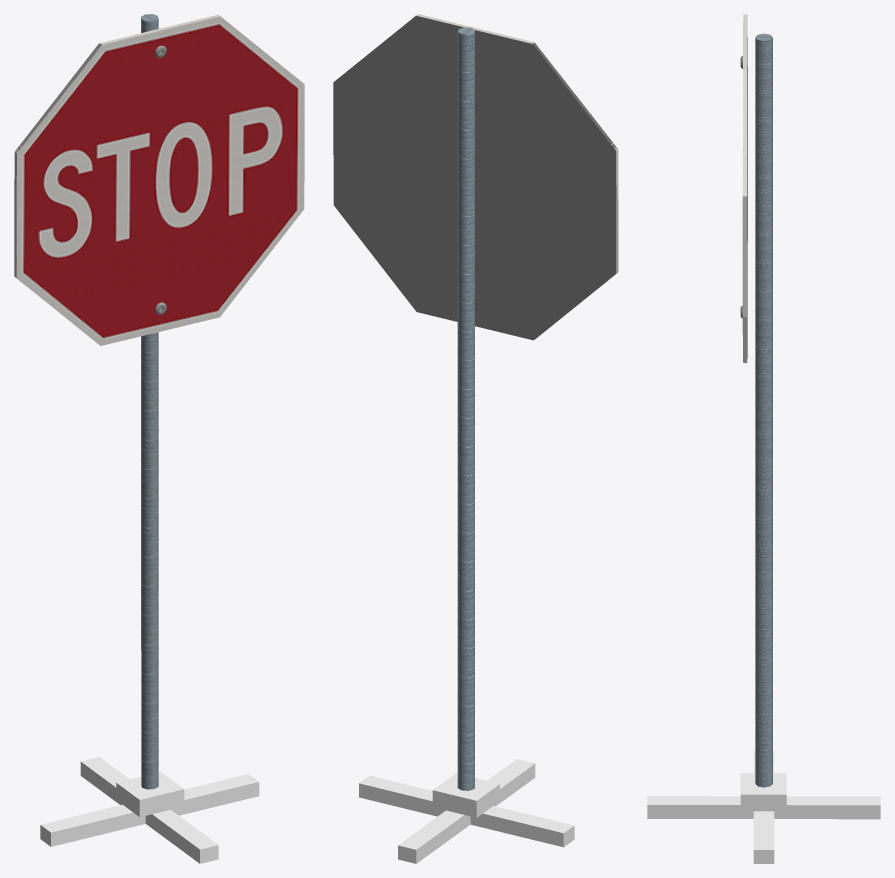
The model's file is stopSign.fbx.
3 renders of one model, left to right at view 1: azimuth 30°, elevation 25°; view 2: azimuth 150°, elevation 25°; view 3: azimuth 270°, elevation 25°, orthographic. The views are drawn at different scales.
Visible parts, largest first — view 1: NGon001, stopSignBase; view 2: NGon001, stopSignBase; view 3: NGon001, stopSignBase.
Part boxes in pixels (box(x1,y1,x2,y2)): NGon001: box(14, 14, 304, 789); stopSignBase: box(40, 757, 259, 863); NGon001: box(333, 14, 618, 790); stopSignBase: box(359, 759, 574, 863); NGon001: box(740, 14, 772, 787); stopSignBase: box(647, 751, 880, 863).
Size of the model in its own units: 22.82 by 60.62 by 16.51.
Materials: 5 (2 with a texture image).
